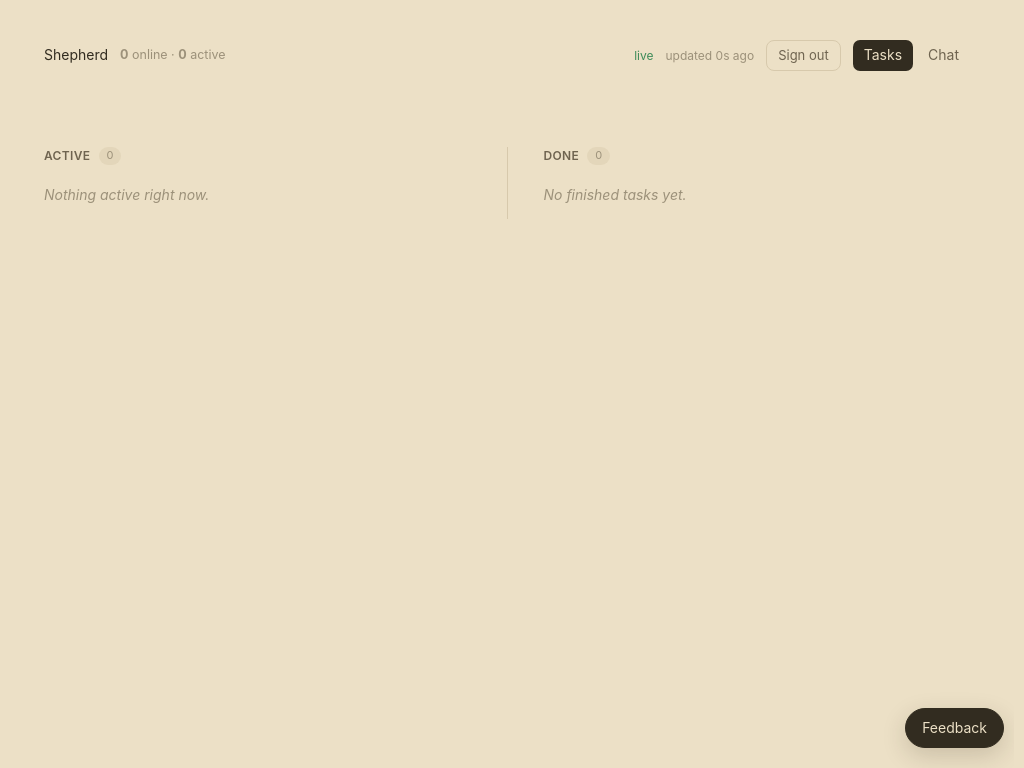
Test: SelfHostApp › clears a pre-stored token and returns to the gate when signing out
Expected: the element with id "board" is shown, left=44, top=40, right=970, bottom=219
What coordinates should you click on to do the following:
click the button "Sign out"
I would click on:
 (803, 55)
Its box is left=766, top=40, right=841, bottom=71.
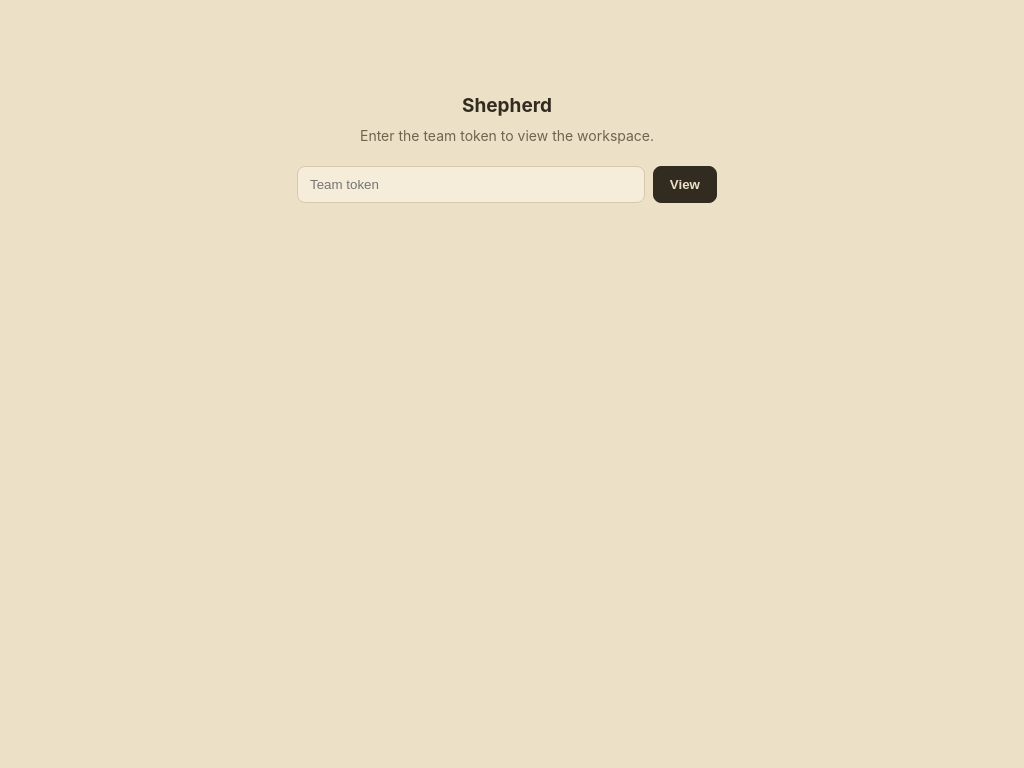
Expected: the element with id "board" is gone
Expected: the password field with placeholder "Team token" is shown, left=297, top=166, right=645, bottom=203
